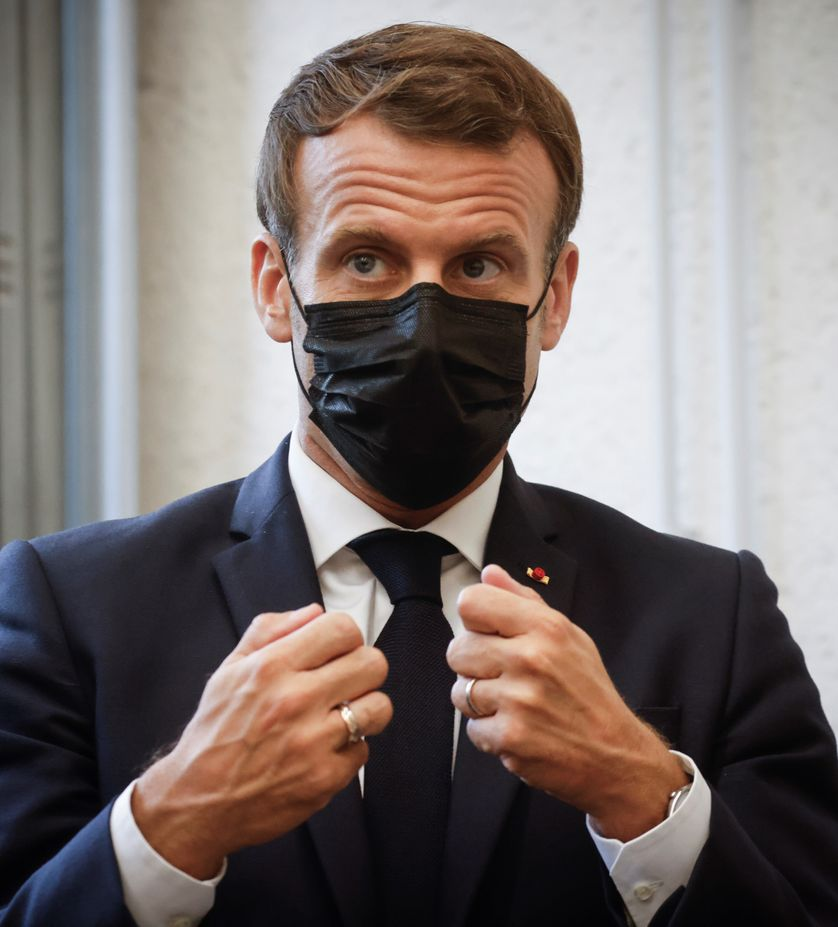with_mask: (249, 114, 579, 515)
